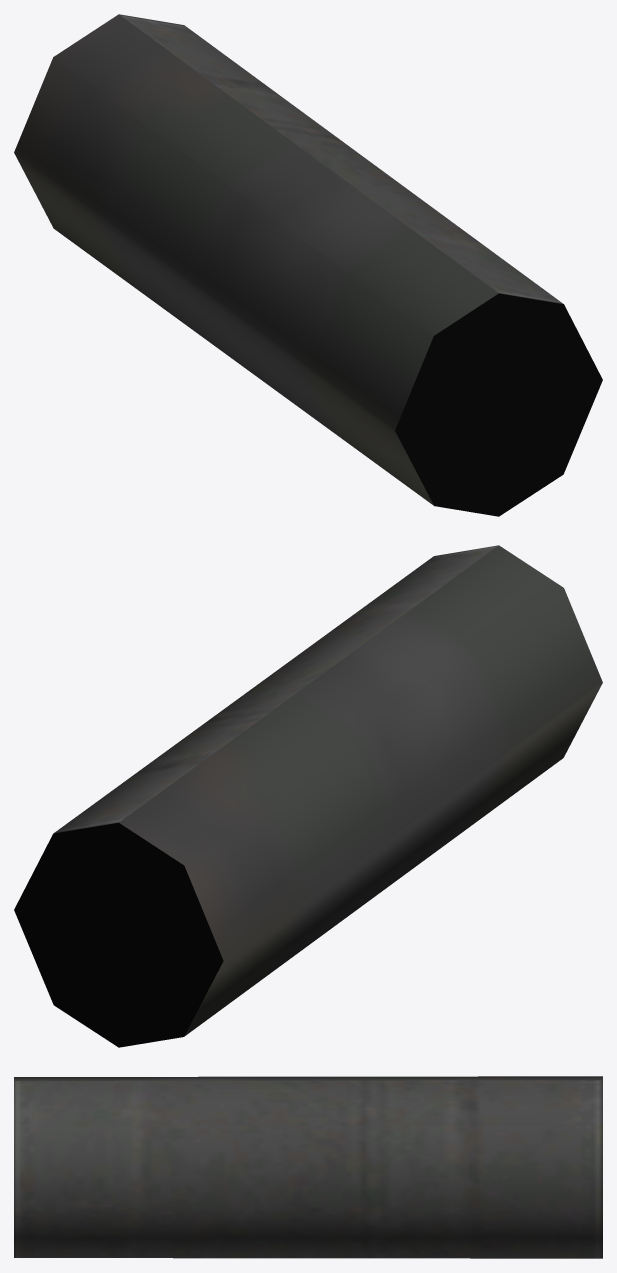
Rendered from SMG_cfq_qt_003_Stock_LOD_(000513).glb.
The picture shows the model from 3 angles, top to bottom: view 1: azimuth 30°, elevation 25°; view 2: azimuth 150°, elevation 25°; view 3: azimuth 270°, elevation 25°; orthographic projection. The views are drawn at different scales.
Visible parts, largest first — view 1: cfq_qt_003; view 2: cfq_qt_003; view 3: cfq_qt_003.
Part boxes in pixels (x1,y1,x2,y2): cfq_qt_003: (14, 14, 602, 516); cfq_qt_003: (14, 545, 602, 1047); cfq_qt_003: (14, 1076, 602, 1258).
Size of the model in its own units: 0.0441 by 0.0452 by 0.1384.
1 material, 1 textured.
